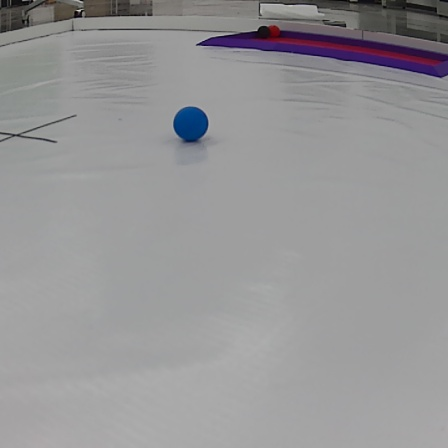black: (257, 26, 269, 38)
blue: (172, 105, 212, 141)
red: (268, 25, 282, 37)
red_aim: (194, 25, 448, 81)
